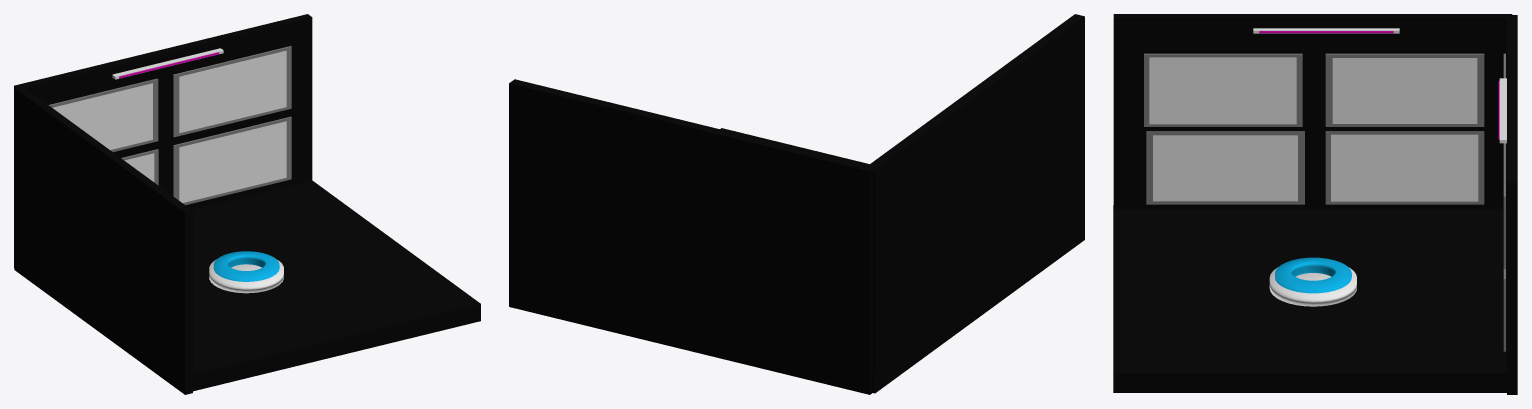
Rendered from event-gallery.glb.
3 renders of one model, left to right at view 1: azimuth 30°, elevation 25°; view 2: azimuth 150°, elevation 25°; view 3: azimuth 270°, elevation 25°, orthographic. The views are drawn at different scales.
Parts seen in each view (by area): view 1: Floor_Base, Wall_Left, Wall_Right, Image_Plane_6, Image_Plane_8, Image_Plane_5, Image_Case_6, Image_Case_8, Cyan_Cylinder_Light, Cyan_Cylinder_Base, Image_Case_5, Ceiling_Light_Base_2 (+1 smaller); view 2: Wall_Right, Wall_Left; view 3: Floor_Base, Wall_Left, Image_Plane_1, Image_Plane_4, Image_Plane_3, Image_Plane_2, Wall_Right, Image_Case_3, Image_Case_2, Image_Case_4, Image_Case_1, Cyan_Cylinder_Light (+5 smaller).
Boxes of the visible parts, <box> form: Floor_Base: <box>186,180,480,392</box>; Wall_Left: <box>14,86,192,394</box>; Wall_Right: <box>14,14,312,267</box>; Image_Plane_6: <box>179,50,286,132</box>; Image_Plane_8: <box>179,121,286,202</box>; Image_Plane_5: <box>52,83,152,149</box>; Image_Case_6: <box>173,46,291,137</box>; Image_Case_8: <box>173,116,291,205</box>; Cyan_Cylinder_Light: <box>213,251,279,281</box>; Cyan_Cylinder_Base: <box>209,259,283,293</box>; Image_Case_5: <box>49,78,158,151</box>; Ceiling_Light_Base_2: <box>112,48,223,79</box>; Wall_Right: <box>509,79,872,394</box>; Wall_Left: <box>865,14,1084,393</box>; Floor_Base: <box>1113,205,1513,392</box>; Wall_Left: <box>1113,14,1512,208</box>; Image_Plane_1: <box>1149,57,1296,124</box>; Image_Plane_4: <box>1331,134,1478,201</box>; Image_Plane_3: <box>1153,135,1297,201</box>; Image_Plane_2: <box>1332,58,1477,123</box>; Wall_Right: <box>1507,15,1517,394</box>; Image_Case_3: <box>1146,131,1304,204</box>; Image_Case_2: <box>1325,53,1484,126</box>; Image_Case_4: <box>1325,131,1484,204</box>; Image_Case_1: <box>1144,53,1302,126</box>; Cyan_Cylinder_Light: <box>1275,257,1351,293</box>.
Size of the model in its own units: 28.81 by 16.95 by 29.2.
